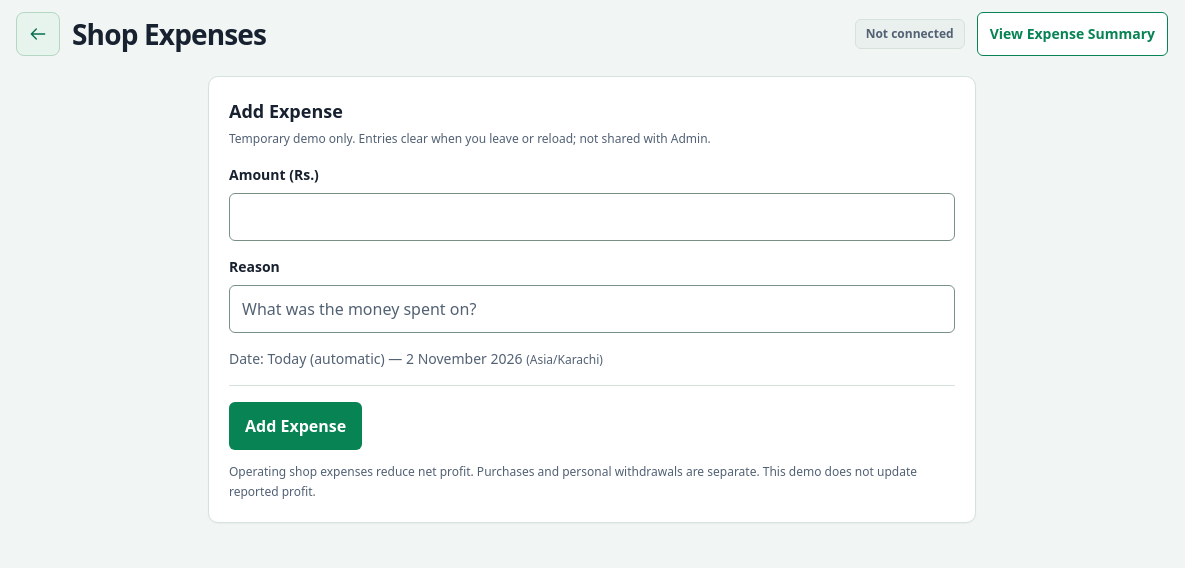
Test: role-placed temporary demo previews › rejects unsafe expense amount -1 and focuses its error
The image size is (1185, 568).
Type "Cleaning" into the field labelled "Reason" at [592, 309], box [229,285,955,333]
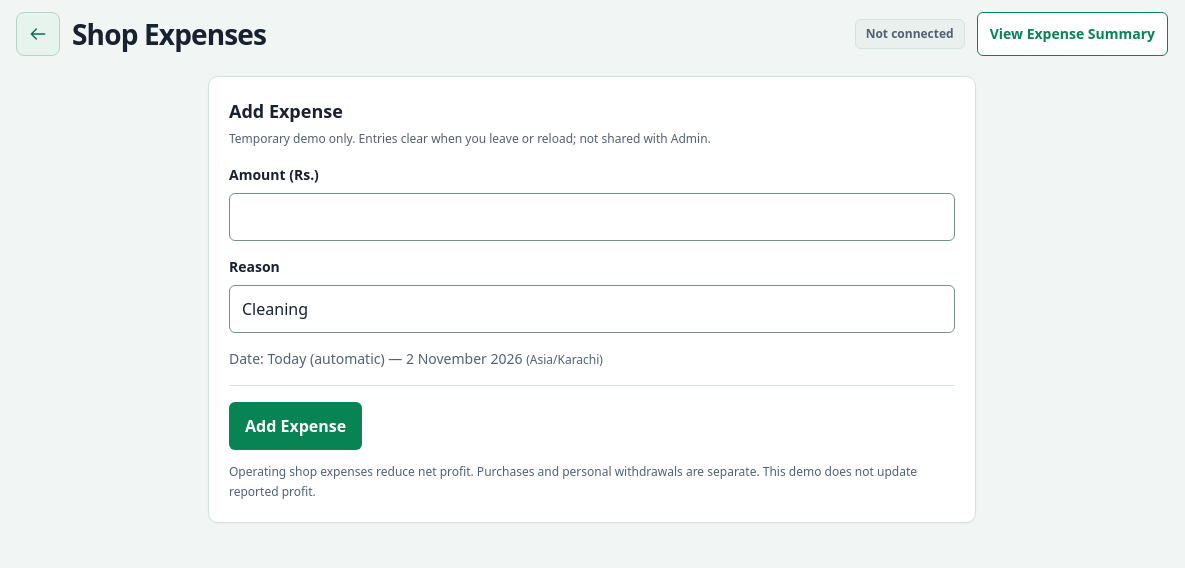
Type "-1" into the field labelled "Amount (Rs.)" at [592, 217], box [229,193,955,241]
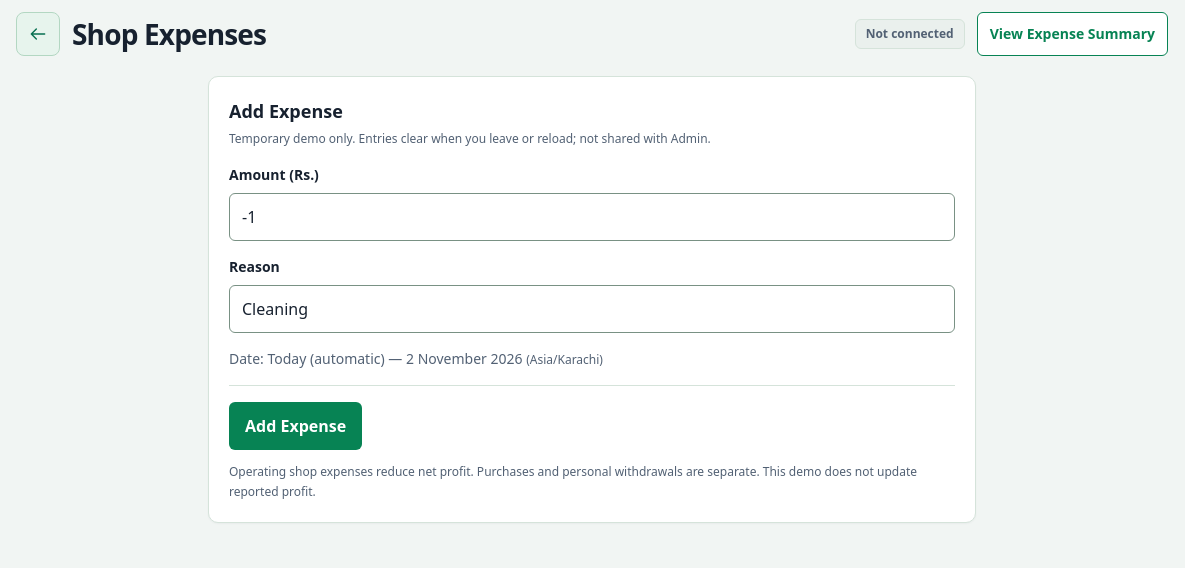
Click the button "Add Expense" at [296, 426], box [229,402,362,450]
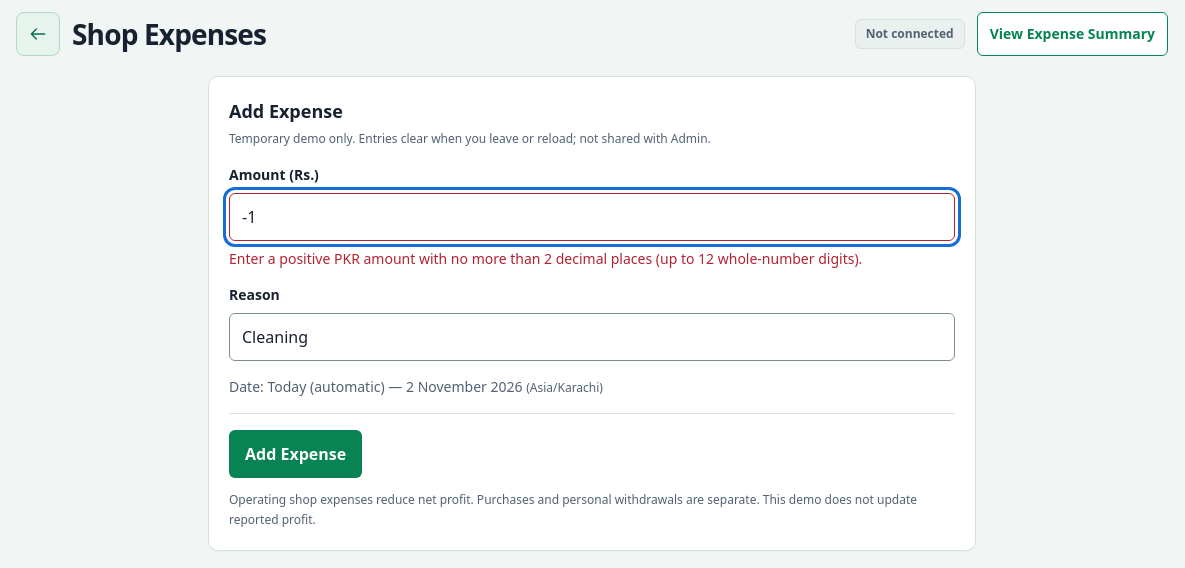
expect the message shows "Enter a positive PKR amount": met, box [229,249,862,268]
